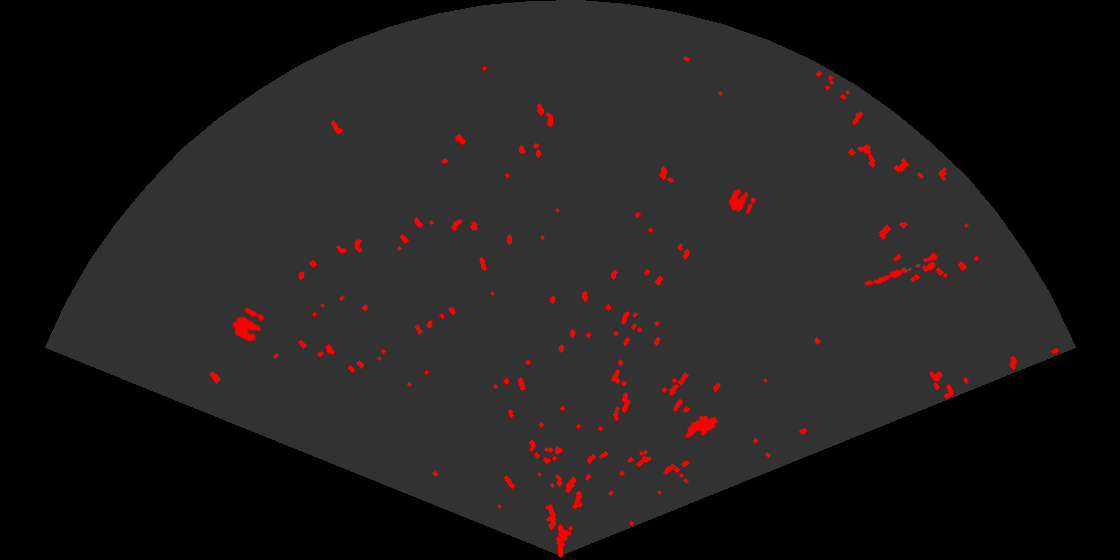AUV: (683, 414, 720, 440)
ball: (231, 306, 266, 344), (727, 187, 757, 215)
chain: (862, 251, 944, 287)
